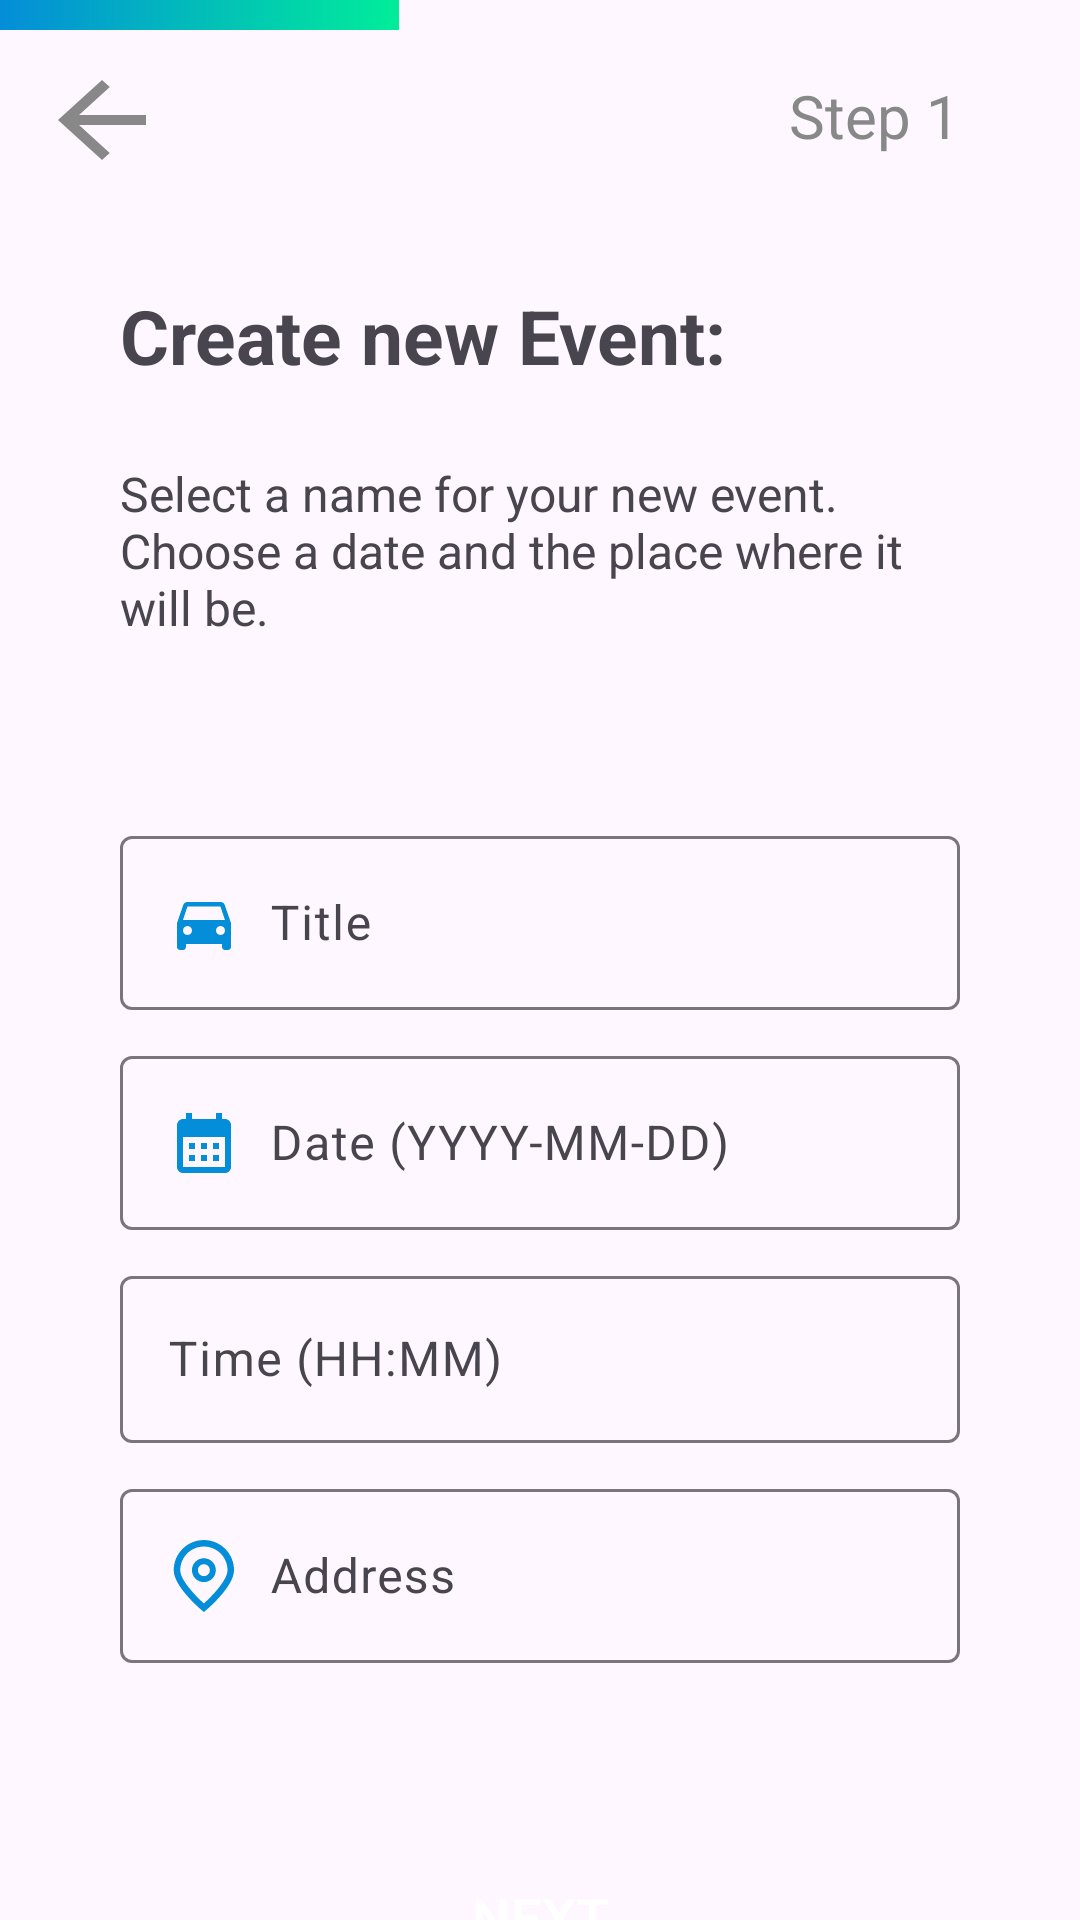

Icons on this 1080*1920 Android screen, each with the point to tap as [x,y]:
go back: [102,120]
